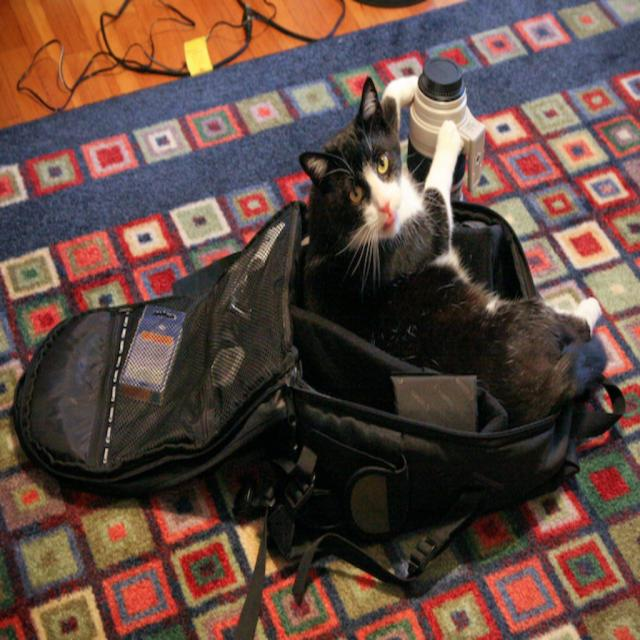Cat: (298, 77, 602, 419)
